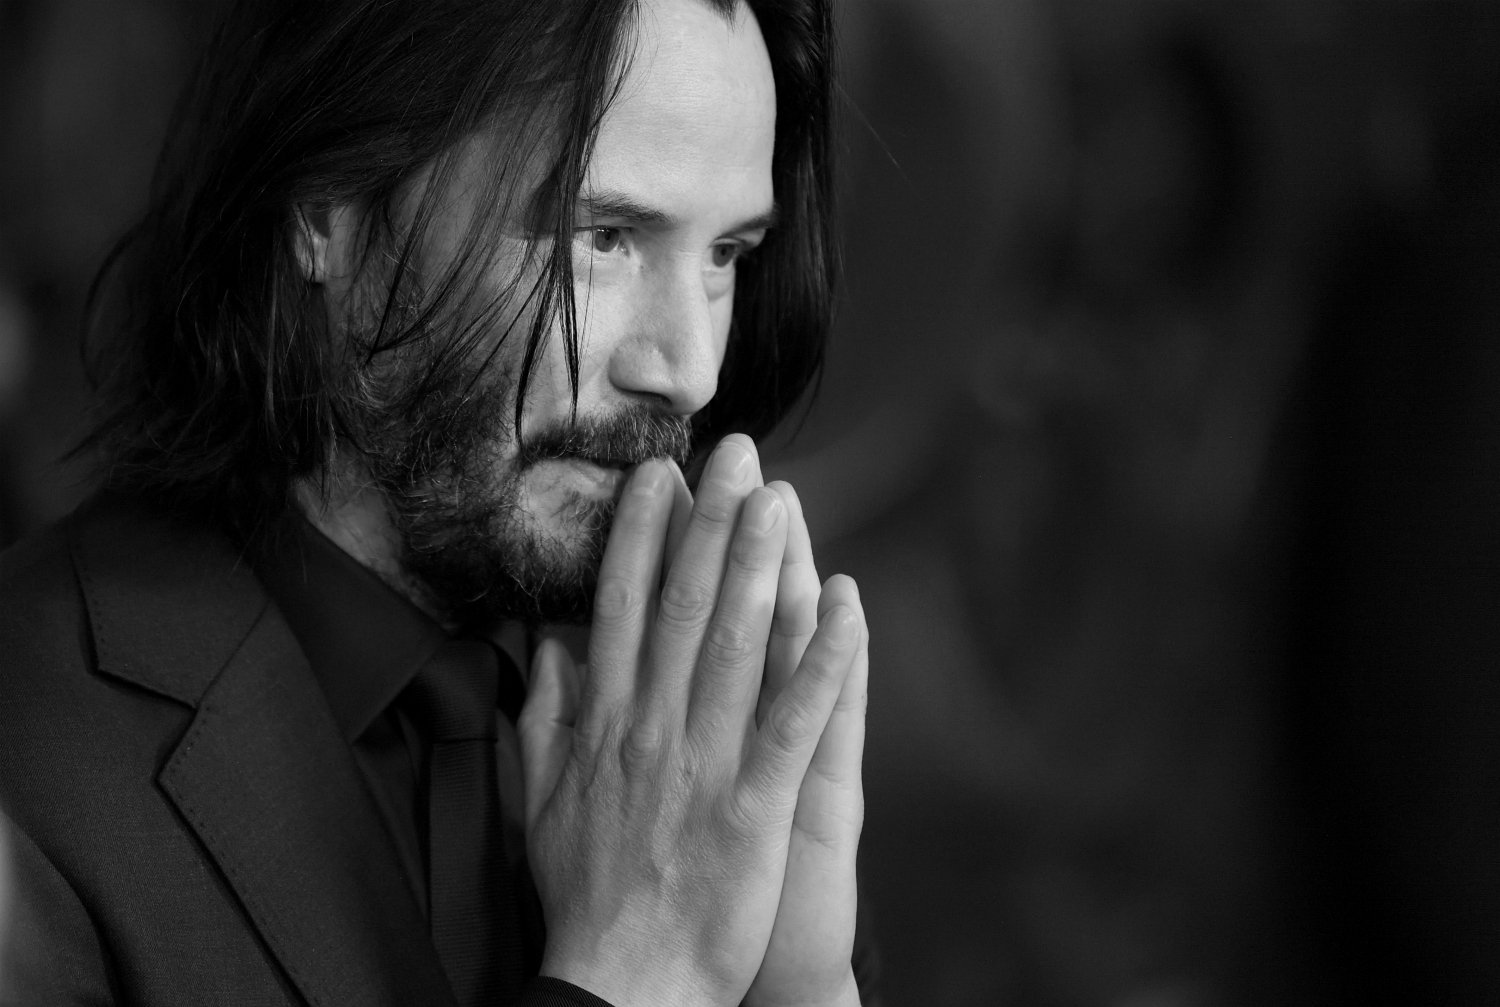noMask: (182, 16, 857, 587)
